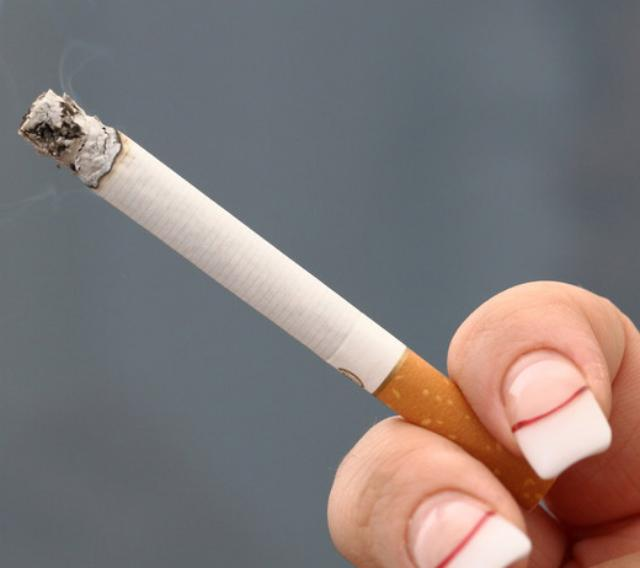Cigarette: (15, 88, 558, 520)
